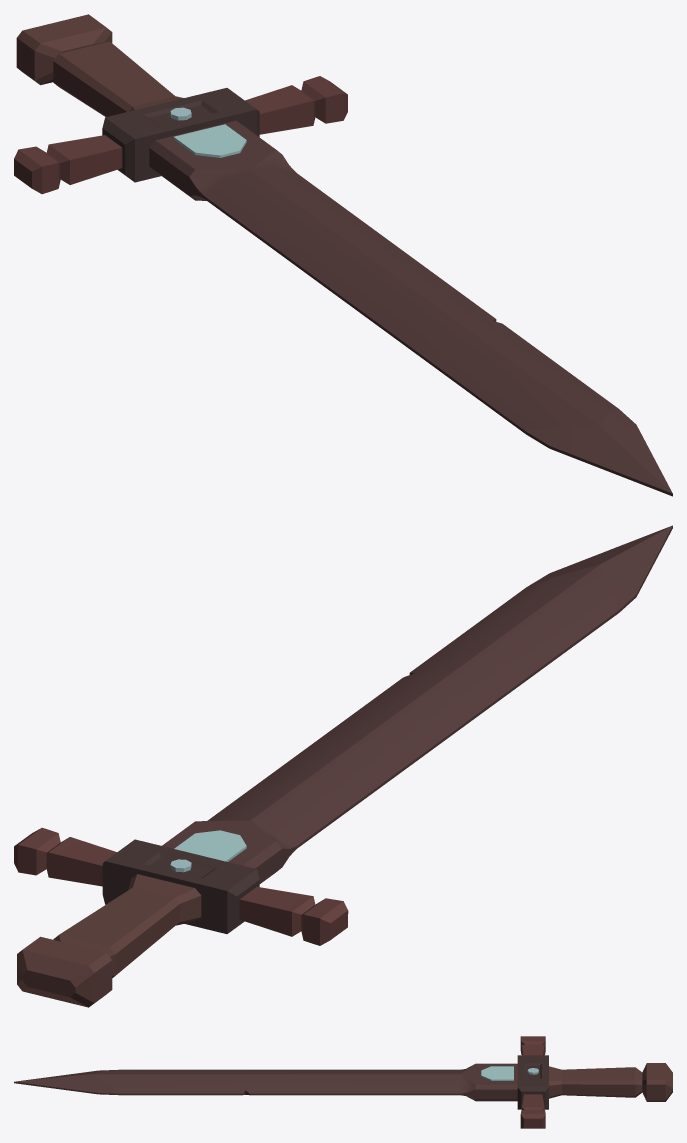
Rendered from SwordModel_Alpha.fbx.
3 renders of one model, top to bottom at view 1: azimuth 30°, elevation 25°; view 2: azimuth 150°, elevation 25°; view 3: azimuth 270°, elevation 25°, orthographic. The views are drawn at different scales.
Parts seen in each view (by area): view 1: Sword_Combined; view 2: Sword_Combined; view 3: Sword_Combined.
Boxes of the visible parts, x1,y1,x2,y2 form: Sword_Combined: (14, 14, 672, 496); Sword_Combined: (14, 525, 672, 1007); Sword_Combined: (14, 1036, 672, 1128).
Size of the model in its own units: 41.38 by 5.75 by 141.
